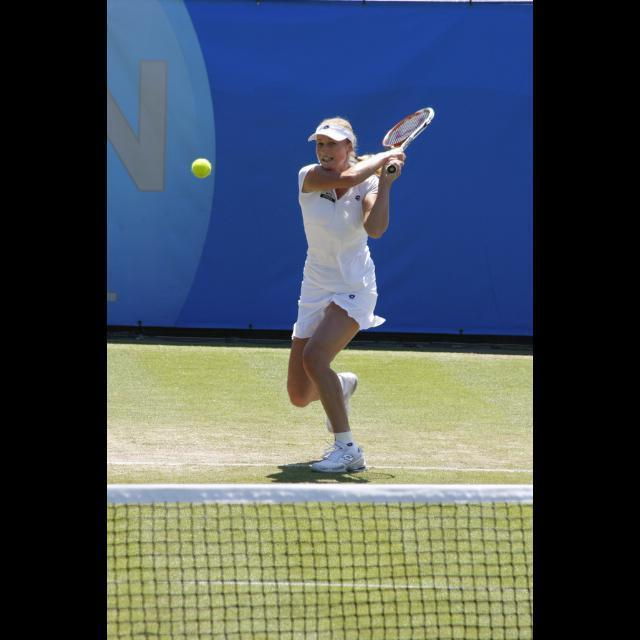tennis-ball: (186, 156, 214, 180)
